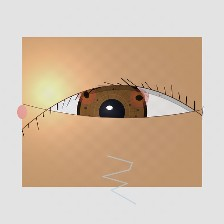foreign_body_visible: (81, 113, 112, 138)
